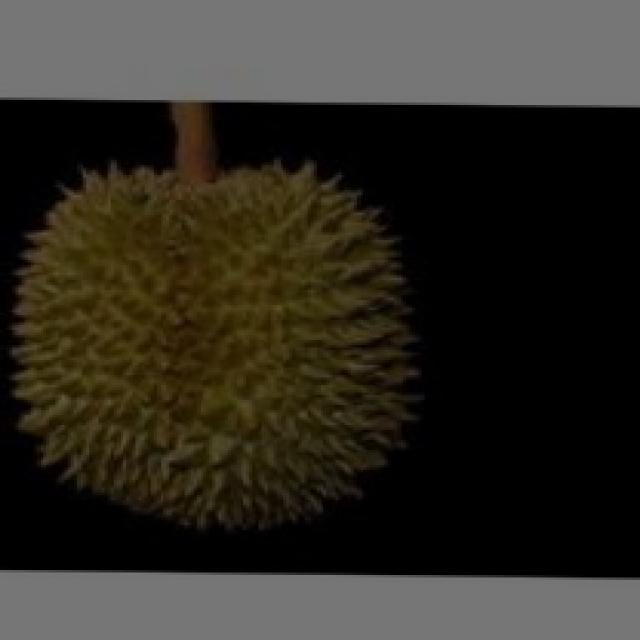fruit: (3, 140, 443, 565)
